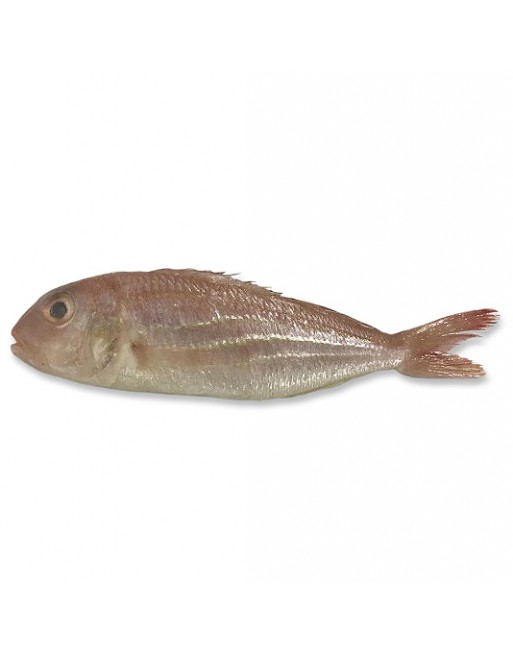Ikan Kerisi: (11, 242, 507, 427)
